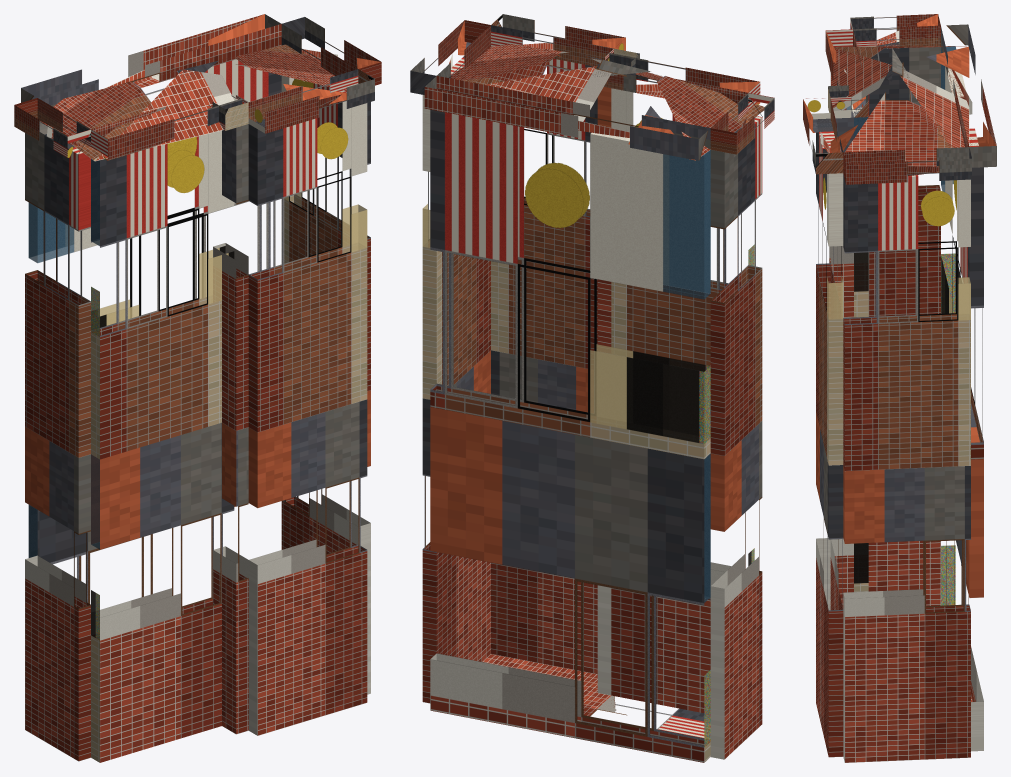
The picture shows the model from 3 angles, left to right: view 1: azimuth 30°, elevation 25°; view 2: azimuth 150°, elevation 25°; view 3: azimuth 270°, elevation 25°; orthographic projection. The views are drawn at different scales.
Parts seen in each view (by area): view 1: 1106973756__wall_4_xb, 1106973756__wall_2_xb, 1106973756__wall_5_xb, 1106973756__wall_3_xb, 1106973756__wall_0_xb, 1106973756__wall_1_xb, 1106973756__cornice_0, 1106973756_roof_front_xb, 1106973756_roof_left_xb, 1106973756__cornice_2, 1106973756__wall_4_xf, 1106973756__wall_0_xf (+6 smaller); view 2: 1106973756__wall_0_xb, 1106973756__wall_2_xb, 1106973756__wall_5_xb, 1106973756__wall_4_xb, 1106973756__wall_1_xb, 1106973756__wall_0_xf, 1106973756__cornice_0, 1106973756_roof_right_xb, 1106973756__cornice_2, 1106973756__wall_3_xb, 1106973756_roof_left_xb, 1106973756__base (+4 smaller); view 3: 1106973756__wall_1_xb, 1106973756__wall_2_xb, 1106973756__wall_5_xb, 1106973756__wall_0_xb, 1106973756_roof_right_xb, 1106973756__cornice_1, 1106973756_roof_back_xb, 1106973756__wall_3_xb, 1106973756_roof_front_xb, 1106973756__cornice_5, 1106973756__cornice_0, 1106973756__wall_4_xb (+8 smaller).
Part boxes in pixels (box(x1,y1,x2,y2)): 1106973756__wall_4_xb: box(91, 130, 234, 762); 1106973756__wall_2_xb: box(248, 101, 367, 735); 1106973756__wall_5_xb: box(25, 122, 90, 761); 1106973756__wall_3_xb: box(213, 124, 248, 734); 1106973756__wall_0_xb: box(28, 59, 281, 603); 1106973756__wall_1_xb: box(281, 62, 370, 694); 1106973756__cornice_0: box(21, 14, 281, 106); 1106973756_roof_front_xb: box(95, 69, 346, 161); 1106973756_roof_left_xb: box(40, 60, 218, 161); 1106973756__cornice_2: box(248, 69, 374, 133); 1106973756__wall_4_xf: box(91, 159, 233, 639); 1106973756__wall_0_xf: box(29, 203, 138, 557); 1106973756__wall_0_xb: box(430, 109, 710, 762); 1106973756__wall_2_xb: box(491, 58, 597, 674); 1106973756__wall_5_xb: box(710, 116, 762, 759); 1106973756__wall_4_xb: box(611, 88, 754, 713); 1106973756__wall_1_xb: box(422, 56, 490, 703); 1106973756__wall_0_xf: box(442, 150, 710, 745); 1106973756__cornice_0: box(424, 76, 710, 160); 1106973756_roof_right_xb: box(450, 44, 650, 87); 1106973756__cornice_2: box(491, 14, 625, 66); 1106973756__wall_3_xb: box(597, 87, 611, 695); 1106973756_roof_left_xb: box(582, 54, 764, 160); 1106973756__base: box(483, 654, 704, 738); 1106973756__wall_1_xb: box(843, 174, 970, 762); 1106973756__wall_2_xb: box(816, 118, 843, 757); 1106973756__wall_5_xb: box(868, 42, 940, 606); 1106973756__wall_0_xb: box(941, 46, 983, 751); 1106973756_roof_right_xb: box(845, 48, 952, 172); 1106973756__cornice_1: box(843, 147, 971, 184); 1106973756_roof_back_xb: box(900, 46, 969, 147); 1106973756__wall_3_xb: box(829, 111, 867, 608); 1106973756_roof_front_xb: box(830, 48, 892, 152); 1106973756__cornice_5: box(850, 14, 940, 48); 1106973756__cornice_0: box(941, 24, 996, 167); 1106973756__wall_4_xb: box(843, 104, 868, 591).
Bounding box in the file's own units: 0.3858 × 0.7453 × 0.2106.
1 material, 1 textured.
